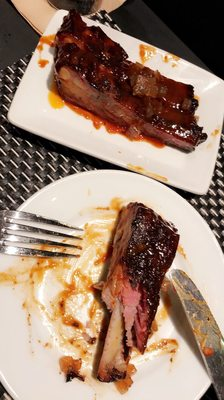burger: (0, 209, 85, 258)
sandwich: (167, 268, 223, 400)
